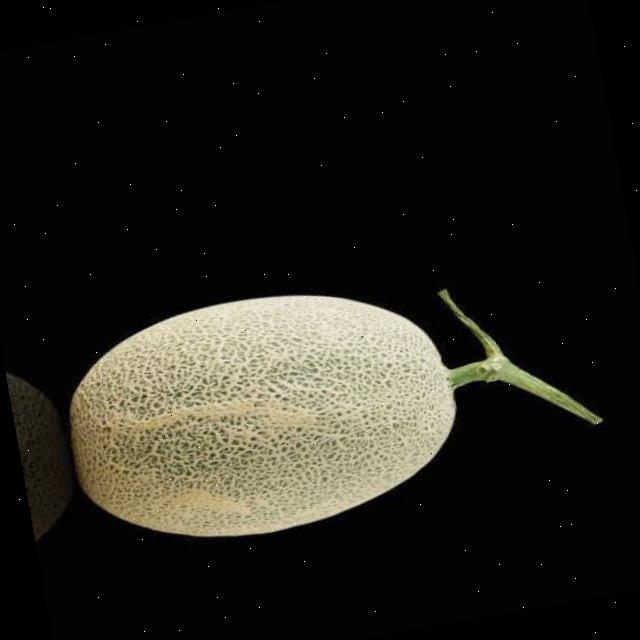Hami Melon: (52, 266, 474, 564)
